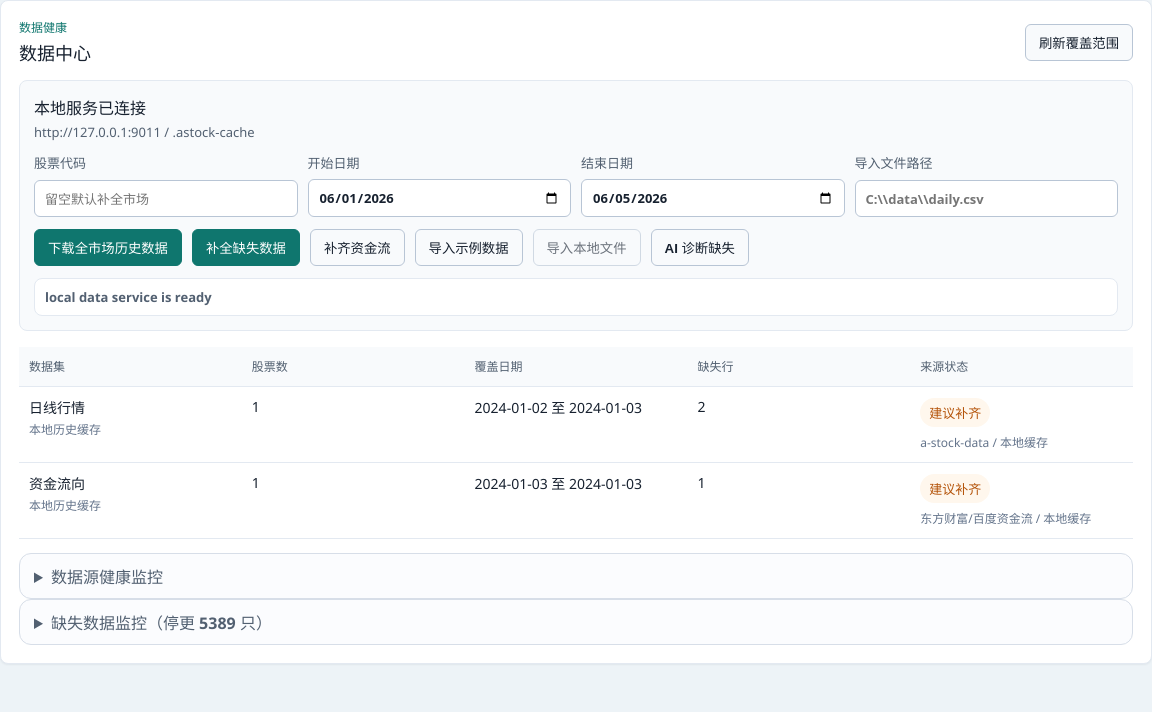
Test case: DataCenter › backfills capital flow through the service crawler boundary
The width and height of the screenshot is (1152, 712).
Expected: the text "http://127.0.0.1:9011 / .astock-cache" is shown, [34,123,254,141]
Type "600519 000001" into the field labelled "股票代码" at (166, 198), box [34,180,298,217]
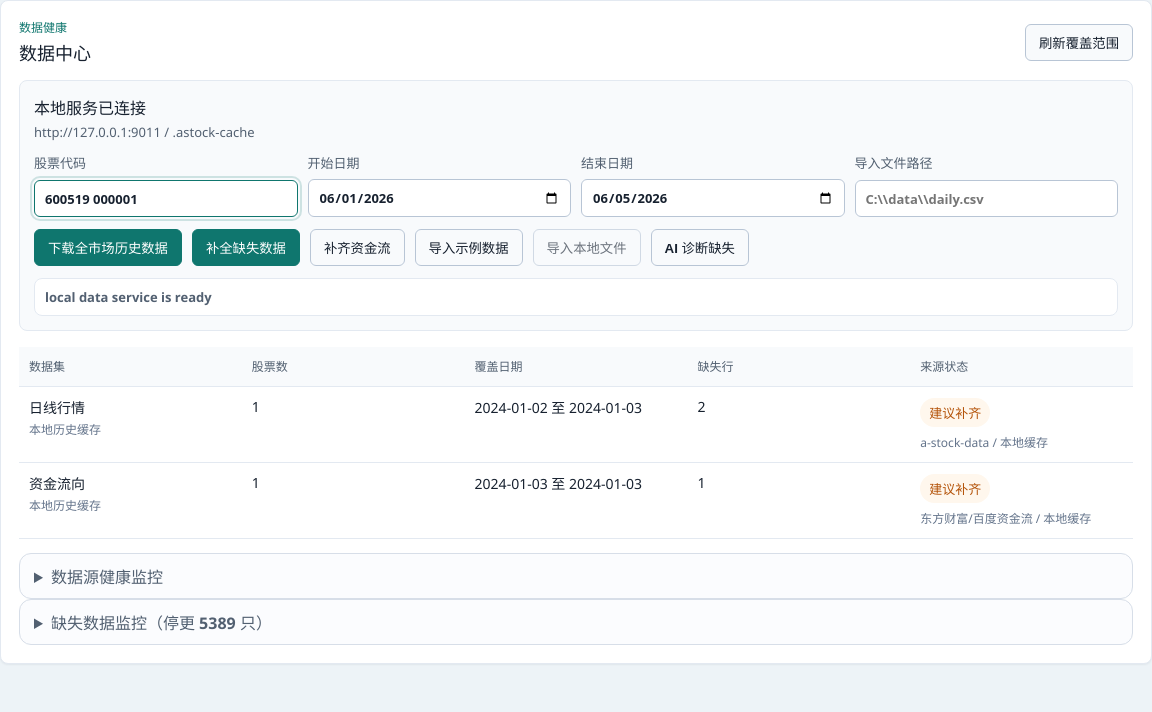
Click the button "补齐资金流" at (357, 248), box [310,229,404,266]
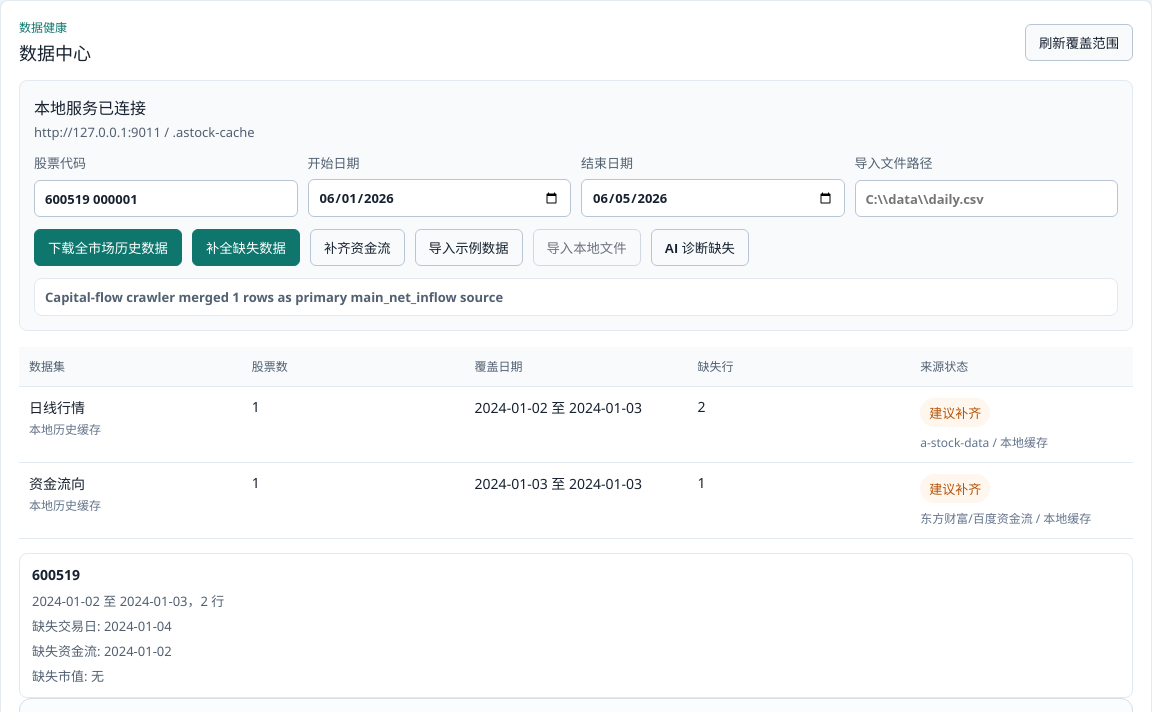
Expected: the text "Capital-flow crawler merged 1 rows as primary main_net_inflow source" is shown, [34,278,1118,316]
